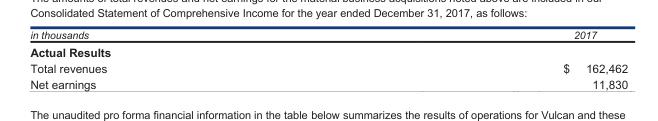table: (29, 28, 627, 90)
table column: (29, 28, 334, 90), (334, 28, 627, 90)
table column header: (29, 28, 627, 43)
table projected row header: (29, 43, 627, 60)
table row: (29, 43, 627, 60), (29, 28, 627, 43), (29, 60, 627, 75), (29, 75, 627, 90)
